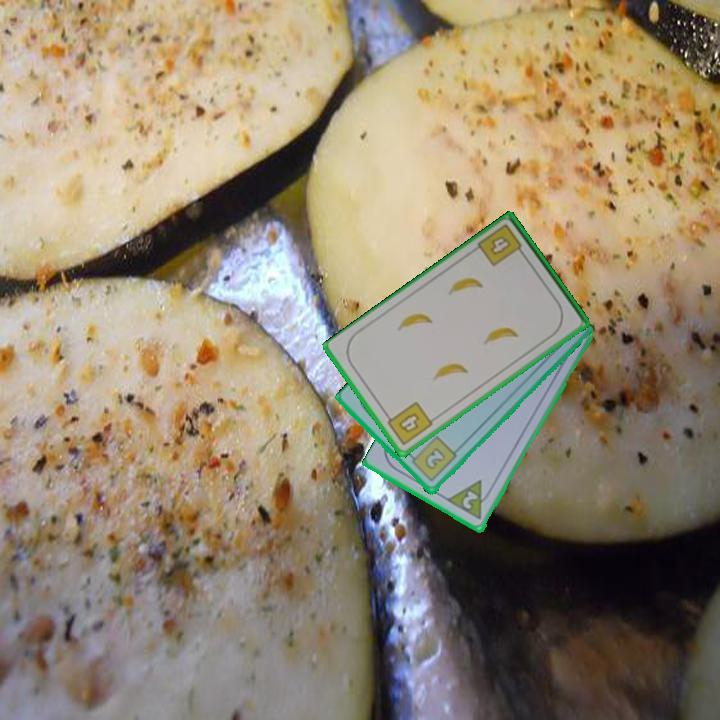2b: (405, 433, 459, 485)
2p: (459, 487, 481, 513)
4b: (381, 398, 436, 448), (474, 220, 528, 269)
